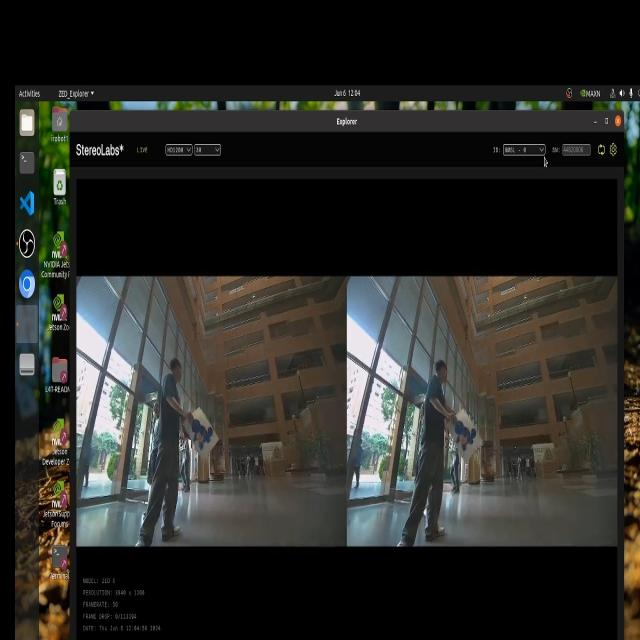blue: (452, 416, 482, 460), (190, 414, 218, 456)
